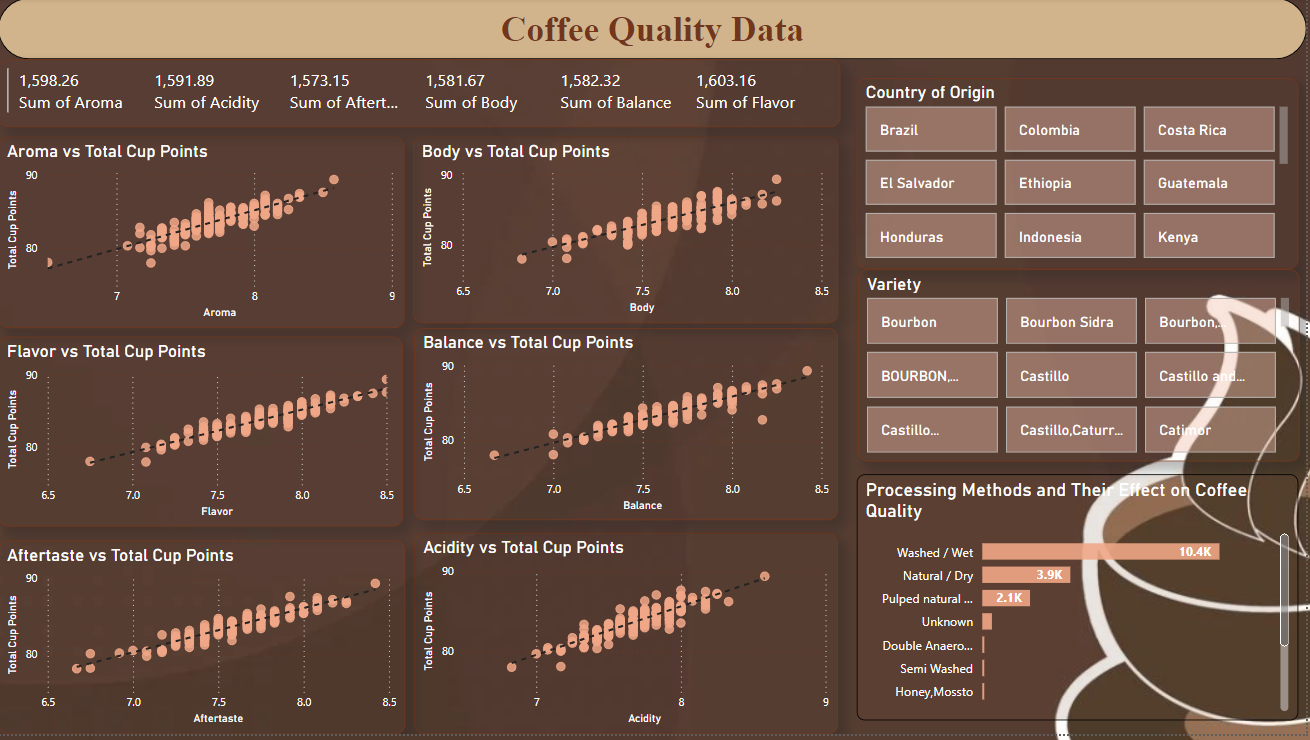

Layout of this report page (visuals, bound fields, positions):
{"tool":"powerbi","page":{"name":"Task -1","canvas":[1280,720],"ordinal":0},"visuals":[{"type":"shape","box":[0,0,1280.3,59.9],"z":0},{"type":"scatterChart","title":"Aroma vs Total Cup Points","fields":{"X":["Cup Points.Aroma"],"Y":["Cup Points.Total Cup Points"]},"box":[0,135.7,397.4,187.1],"z":1000},{"type":"scatterChart","title":"Flavor vs Total Cup Points","fields":{"Y":["Cup Points.Total Cup Points"],"X":["Cup Points.Flavor"]},"box":[0,331.4,396.2,185.9],"z":2000},{"type":"scatterChart","title":"Acidity vs Total Cup Points","fields":{"X":["Cup Points.Acidity"],"Y":["Cup Points.Total Cup Points"]},"box":[407.2,523.4,414.5,196.9],"z":3000},{"type":"scatterChart","title":"Aftertaste vs Total Cup Points","fields":{"X":["Cup Points.Aftertaste"],"Y":["Cup Points.Total Cup Points"]},"box":[0,530.7,398.6,189.5],"z":4000},{"type":"scatterChart","title":"Body vs Total Cup Points","fields":{"X":["Cup Points.Body"],"Y":["Cup Points.Total Cup Points"]},"box":[406,135.7,415.8,182.2],"z":5000},{"type":"scatterChart","title":"Balance vs Total Cup Points","fields":{"X":["Cup Points.Balance"],"Y":["Cup Points.Total Cup Points"]},"box":[407.2,322.8,414.5,188.3],"z":6000},{"type":"advancedSlicerVisual","fields":{"Values":["coffee data.Country of Origin"]},"box":[840.1,78.3,431.7,187.1],"z":7000},{"type":"advancedSlicerVisual","fields":{"Values":["coffee data.Variety"]},"box":[841.3,265.4,431.7,188.3],"z":8000},{"type":"barChart","title":"Processing Methods and Their Effect on Coffee Quality","fields":{"Category":["coffee data.Processing Method"],"Y":["Sum(coffee data.Total Cup Points)"]},"box":[840.1,465.9,431.7,240.9],"z":9000},{"type":"multiRowCard","fields":{"Values":["Sum(Cup Points.Aroma)","Sum(Cup Points.Acidity)","Sum(Cup Points.Aftertaste)","Sum(Cup Points.Body)","Sum(Cup Points.Balance)","Sum(Cup Points.Flavor)"]},"box":[0,59.9,824.2,66],"z":10000}]}

Visuals, with their boxes in screenshot pixels (x1, y1, x2, y2), scaled from the page's 1280x720 canvas onto the 1310x740 screenshot:
shape: 0/0/1309/62
"Aroma vs Total Cup Points" scatterChart: 0/139/407/332
"Flavor vs Total Cup Points" scatterChart: 0/341/405/532
"Acidity vs Total Cup Points" scatterChart: 417/538/841/739
"Aftertaste vs Total Cup Points" scatterChart: 0/545/408/739
"Body vs Total Cup Points" scatterChart: 416/139/841/327
"Balance vs Total Cup Points" scatterChart: 417/332/841/525
advancedSlicerVisual - coffee data.Country of Origin: 860/80/1302/273
advancedSlicerVisual - coffee data.Variety: 861/273/1303/466
"Processing Methods and Their Effect on Coffee Quality" barChart: 860/479/1302/726
multiRowCard - Sum(Cup Points.Aroma) x Sum(Cup Points.Acidity): 0/62/844/129
